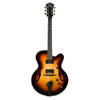guitar: (31, 2, 68, 96)
